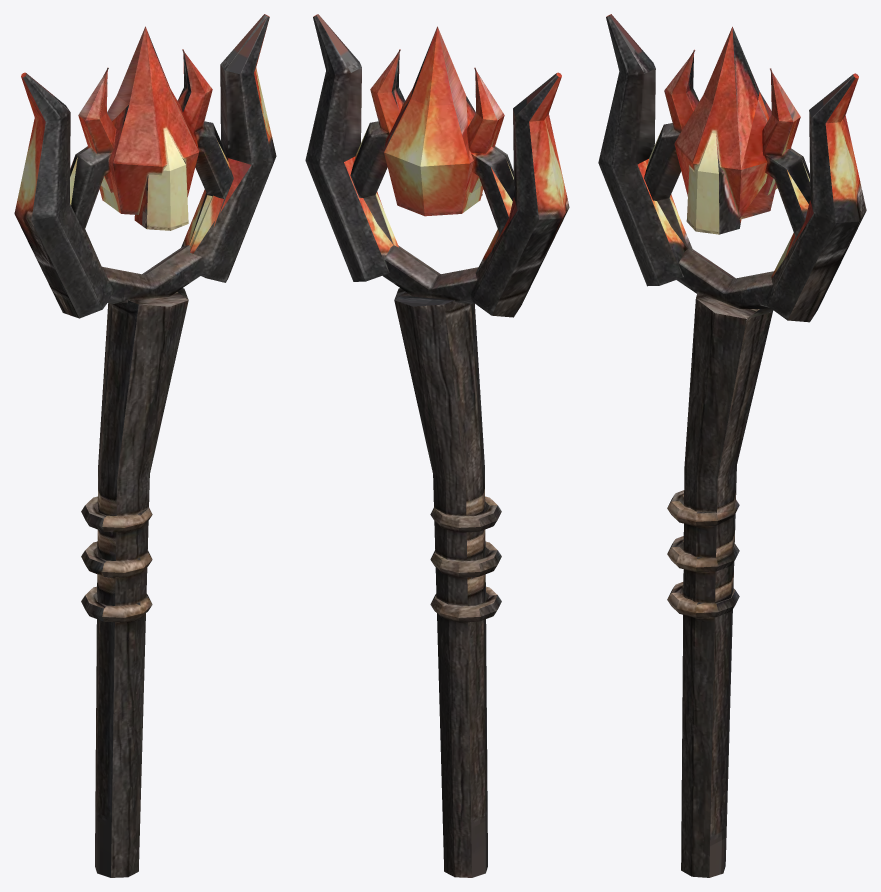
The model's file is evil_staff.glb.
3 renders of one model, left to right at view 1: azimuth 30°, elevation 25°; view 2: azimuth 150°, elevation 25°; view 3: azimuth 330°, elevation 25°, orthographic.
Parts seen in each view (by area): view 1: Twisted dark staff shaft, Staff crooked claw, Staff crooked claw.001, Red magical flame, Iron staff crown, Bright flame heart, Curling flame tongue, Curling flame tongue.001, Staff grip wrap, Staff grip wrap.001, Staff grip wrap.002; view 2: Twisted dark staff shaft, Staff crooked claw, Red magical flame, Staff crooked claw.001, Iron staff crown, Curling flame tongue, Curling flame tongue.001, Staff grip wrap, Staff grip wrap.001, Staff grip wrap.002; view 3: Twisted dark staff shaft, Staff crooked claw.001, Staff crooked claw, Red magical flame, Iron staff crown, Bright flame heart, Curling flame tongue.001, Curling flame tongue, Staff grip wrap, Staff grip wrap.001, Staff grip wrap.002.
Boxes of the visible parts, bbox=[...] form: Twisted dark staff shaft: bbox=[95, 288, 188, 877]; Staff crooked claw: bbox=[14, 72, 114, 318]; Staff crooked claw.001: bbox=[181, 14, 276, 282]; Red magical flame: bbox=[99, 26, 198, 214]; Iron staff crown: bbox=[70, 121, 233, 303]; Bright flame heart: bbox=[134, 130, 188, 230]; Curling flame tongue: bbox=[78, 67, 116, 192]; Curling flame tongue.001: bbox=[177, 49, 212, 134]; Staff grip wrap: bbox=[81, 586, 152, 622]; Staff grip wrap.001: bbox=[81, 541, 152, 577]; Staff grip wrap.002: bbox=[81, 496, 152, 532]; Twisted dark staff shaft: bbox=[394, 288, 487, 877]; Staff crooked claw: bbox=[470, 72, 569, 317]; Red magical flame: bbox=[384, 26, 483, 216]; Staff crooked claw.001: bbox=[305, 14, 398, 281]; Iron staff crown: bbox=[350, 121, 513, 303]; Curling flame tongue: bbox=[466, 67, 504, 192]; Curling flame tongue.001: bbox=[370, 49, 405, 134]; Staff grip wrap: bbox=[430, 586, 501, 622]; Staff grip wrap.001: bbox=[430, 541, 501, 577]; Staff grip wrap.002: bbox=[430, 496, 501, 532]; Twisted dark staff shaft: bbox=[681, 292, 773, 877]; Staff crooked claw.001: bbox=[766, 73, 866, 322]; Staff crooked claw: bbox=[598, 14, 693, 286]; Red magical flame: bbox=[674, 26, 776, 219]; Iron staff crown: bbox=[644, 123, 810, 308]; Bright flame heart: bbox=[686, 133, 741, 234]; Curling flame tongue.001: bbox=[762, 68, 800, 195]; Curling flame tongue: bbox=[664, 49, 699, 132]; Staff grip wrap: bbox=[667, 582, 739, 617]; Staff grip wrap.001: bbox=[667, 536, 739, 572]; Staff grip wrap.002: bbox=[667, 490, 739, 526].
Bounding box in the file's own units: 0.714 × 2.23 × 0.2845.
4 materials, 4 textured.
